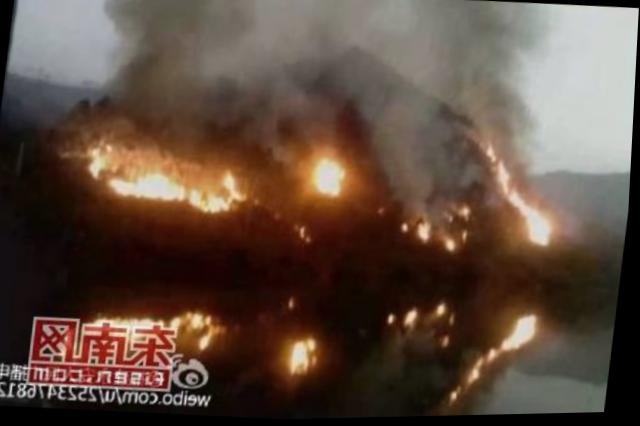fire: (81, 150, 257, 218), (479, 131, 576, 254), (84, 297, 234, 359), (455, 311, 546, 407), (402, 199, 475, 255), (388, 300, 461, 348), (307, 153, 352, 199), (294, 335, 323, 381)
